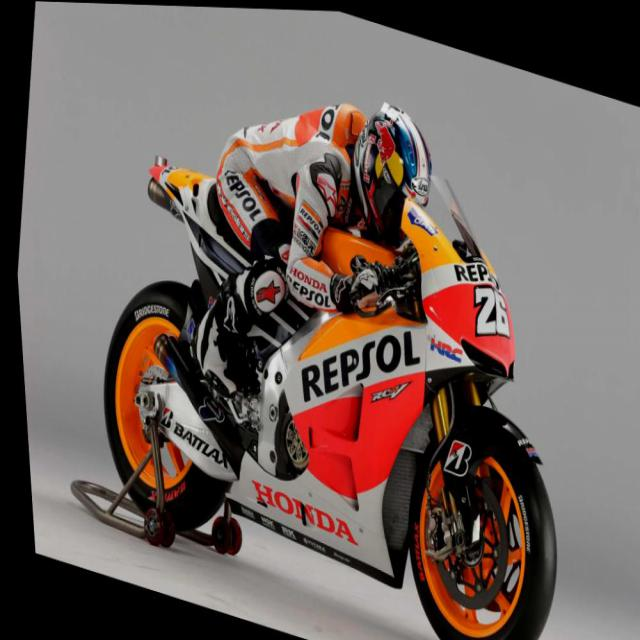HRC RCV 213: (67, 84, 602, 639)
